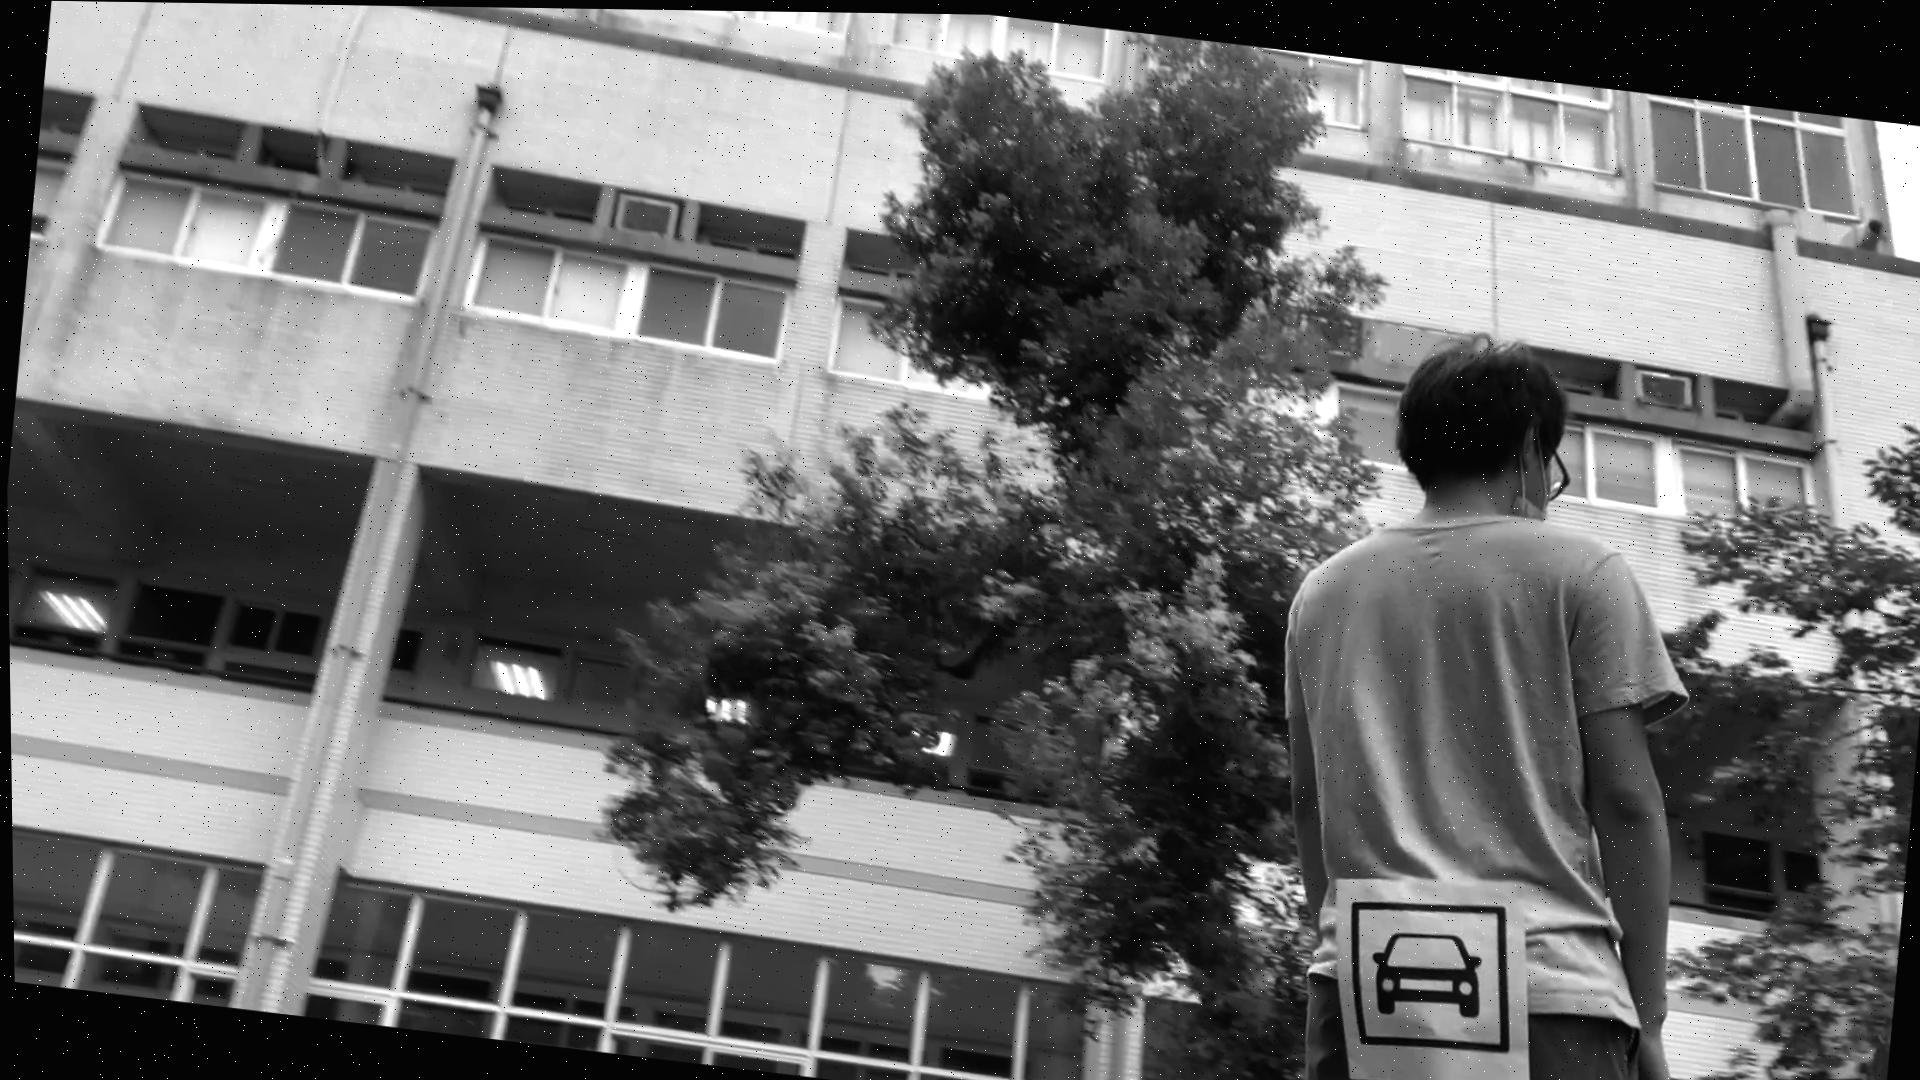car_img: (1335, 884, 1522, 1058)
